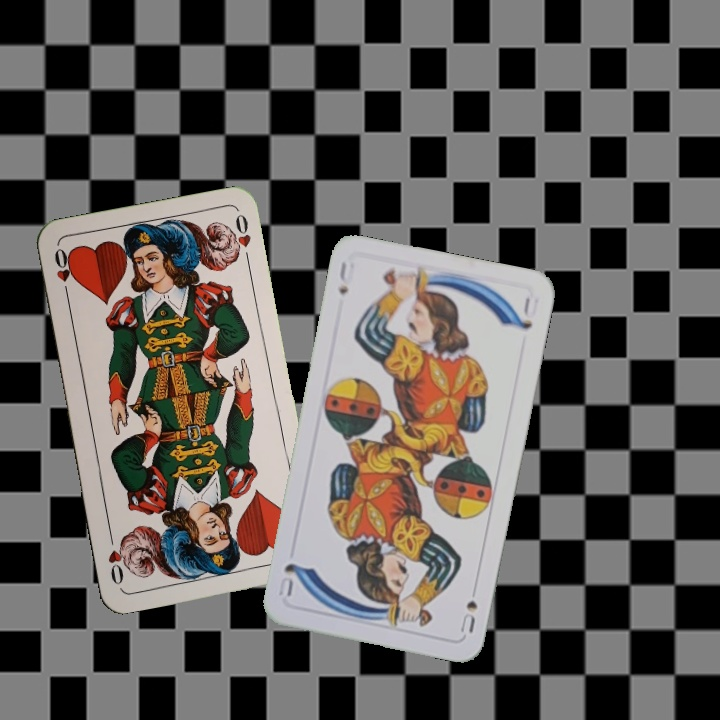HO: (50, 244, 75, 303)
SU: (456, 596, 480, 635), (333, 257, 351, 298)
